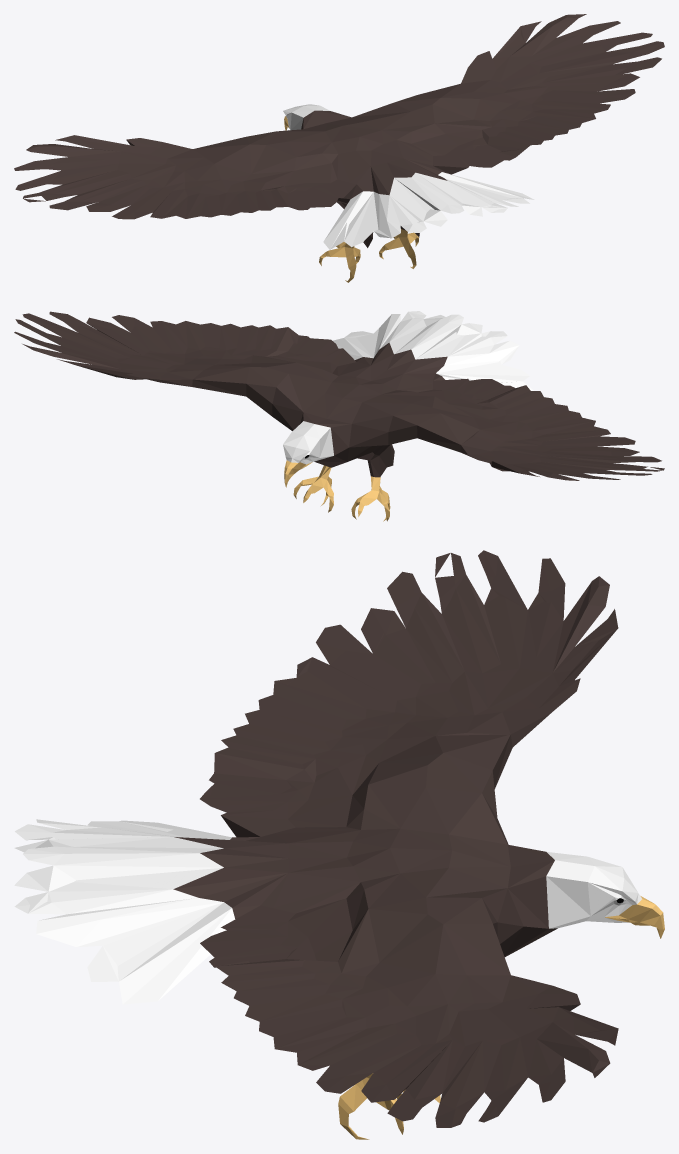
File: adlerFootOut02.dae
3 views of the same model, one above another, from view 1: azimuth 30°, elevation 25°; view 2: azimuth 150°, elevation 25°; view 3: azimuth 270°, elevation 25° (orthographic). The views are drawn at different scales.
Parts seen in each view (by area): view 1: SketchUp (×5); view 2: SketchUp (×5); view 3: SketchUp (×5).
Part boxes in pixels (x1,y1,x2,y2): SketchUp (×5): (15, 14, 664, 282); SketchUp (×5): (15, 311, 661, 521); SketchUp (×5): (14, 550, 664, 1139).
Size of the model in its own units: 1475 by 706 by 330.
